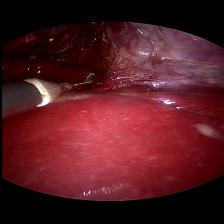Hook: (22, 75, 94, 110)
